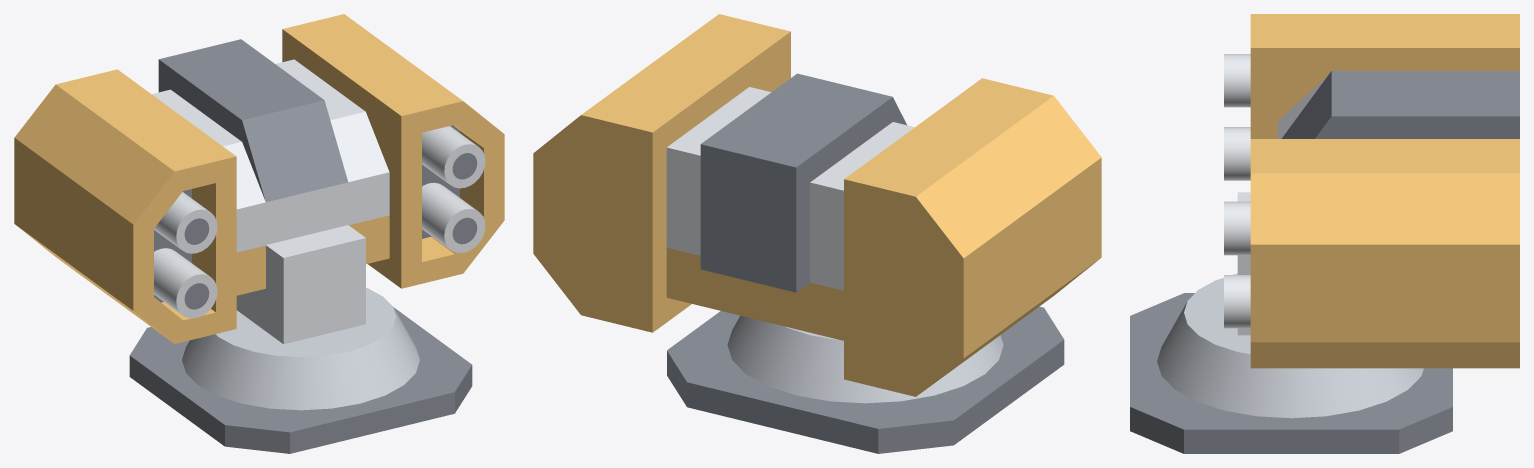
Rendered from turret_double.glb.
3 renders of one model, left to right at view 1: azimuth 30°, elevation 25°; view 2: azimuth 150°, elevation 25°; view 3: azimuth 270°, elevation 25°, orthographic. The views are drawn at different scales.
Parts seen in each view (by area): view 1: turret, turret_double; view 2: turret, turret_double; view 3: turret, turret_double.
Boxes of the visible parts, x1,y1,x2,y2 form: turret: (14,14,504,343); turret_double: (129,225,472,453); turret: (533,14,1101,396); turret_double: (667,306,1064,453); turret: (1224,14,1519,368); turret_double: (1130,192,1452,453).
Size of the model in its own units: 0.9 by 0.599 by 0.7242.
